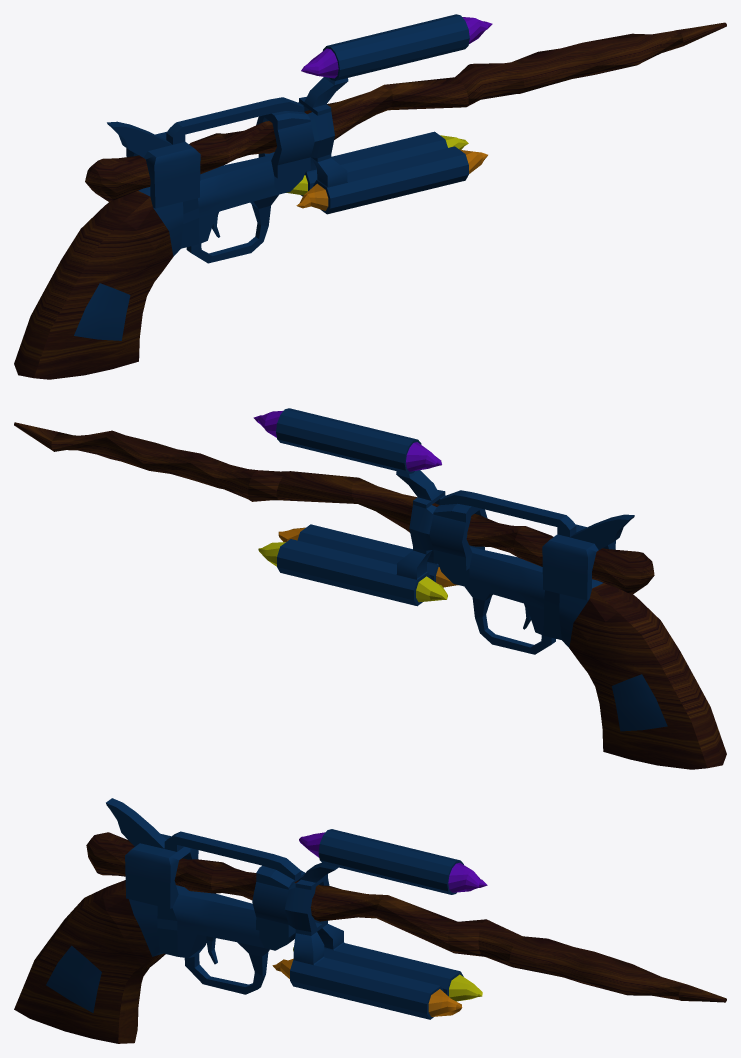
File: GunWand 1.fbx
The picture shows the model from 3 angles, top to bottom: view 1: azimuth 30°, elevation 25°; view 2: azimuth 150°, elevation 25°; view 3: azimuth 330°, elevation 25°; orthographic projection.
Parts seen in each view (by area): view 1: Gun, Wand; view 2: Gun, Wand; view 3: Gun, Wand.
Boxes of the visible parts, box(x1,y1,x2,y2) form: Gun: box(14, 14, 492, 379); Wand: box(85, 22, 726, 201); Gun: box(253, 408, 726, 769); Wand: box(14, 422, 654, 593); Gun: box(14, 798, 487, 1043); Wand: box(86, 832, 726, 1002).
Size of the model in its own units: 1801 by 639 by 164.
Materials: 6 (2 with a texture image).
